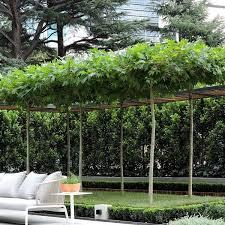tree: (111, 40, 209, 203), (42, 51, 122, 201)
